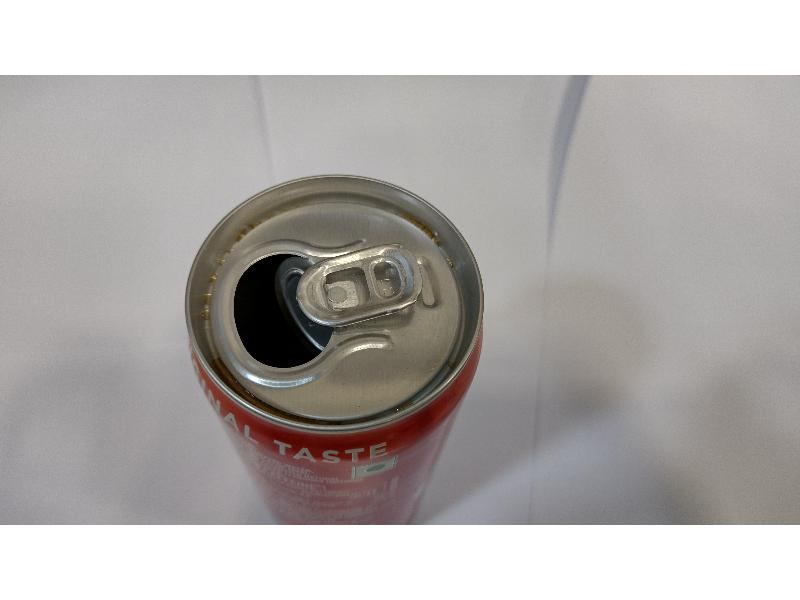can: (161, 162, 488, 504)
